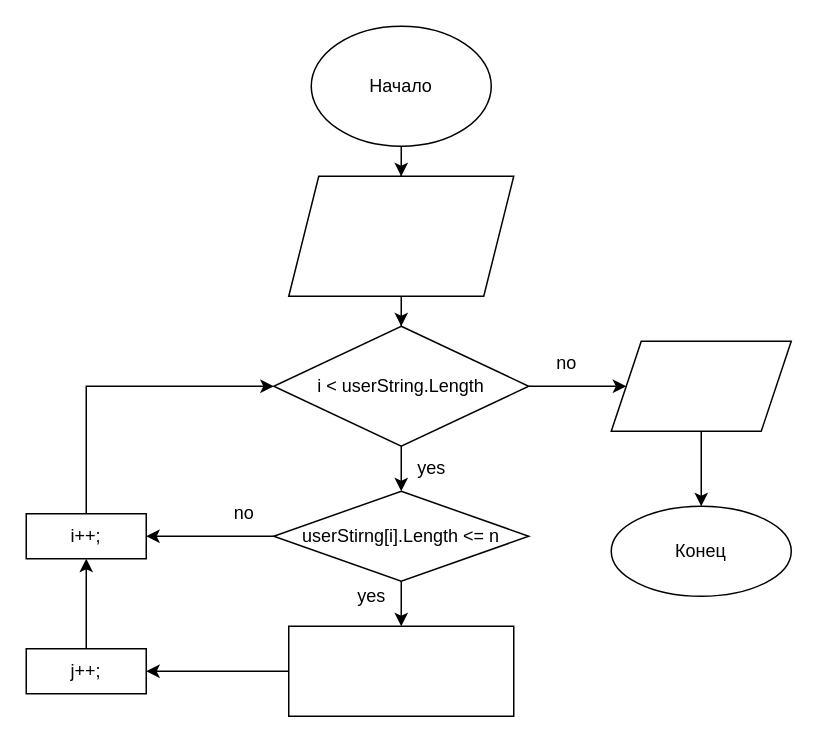
Image size: 818x743. Some labels were removed from this diagram. The centre of each missing label's shape, as x and y in pixels:
"result[j] = userString[i];" belongs at (x=400, y=670).
"string[] userString; string[] result; int i = 0; int j = 0; int n =0" belongs at (x=400, y=235).
"вывод result" belongs at (x=700, y=385).
